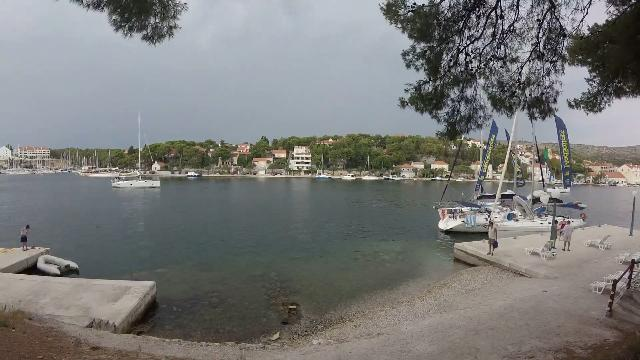Sailboat: (107, 172, 165, 192)
